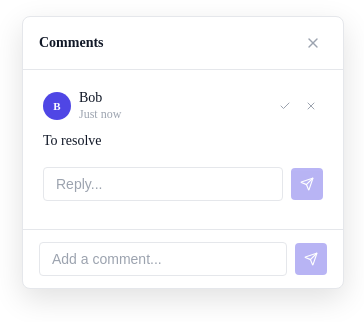
Scenario: CommentThread › resolves and unresolves a comment
Click the button named "Resolve comment".
click(285, 106)  # box [273,94,297,118]
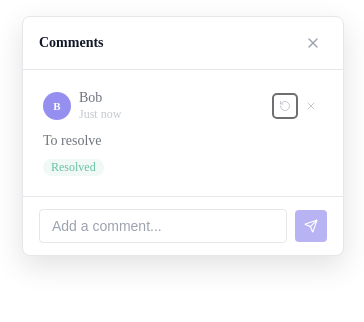
Now the text "Resolved" is shown, box [43,159,104,176]
Click the button named "Unresolve comment".
click(285, 106)  # box [273,94,297,118]
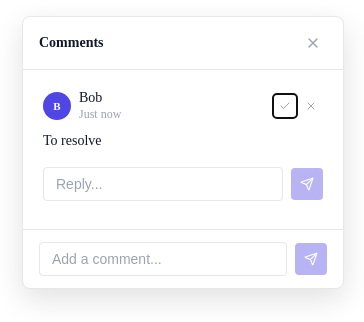
Now the text "Resolved" is gone
